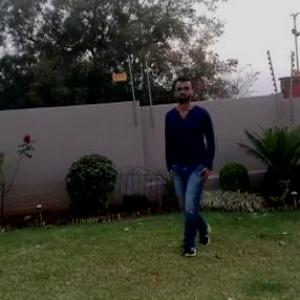follow: (165, 73, 214, 254)
